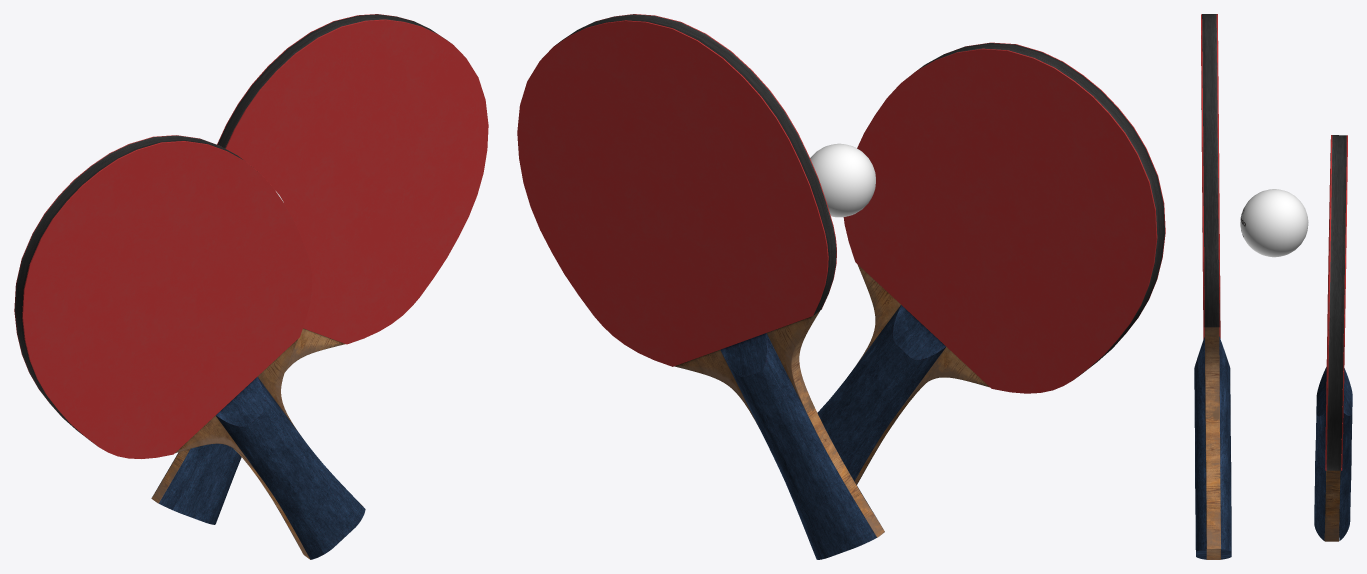
Rendered from paddle.gltf.
3 views of the same model, side by side, from view 1: azimuth 30°, elevation 25°; view 2: azimuth 150°, elevation 25°; view 3: azimuth 270°, elevation 25° (orthographic). The views are drawn at different scales.
Visible parts, largest first — view 1: raquette.001_Cover.002_0.001, raquette.001_Cover.002_0.004, raquette.001_Grip.002_0.001, raquette.001_Grip.002_0.002, raquette.001_Strap.002_0.001, raquette.001_Handle.002_0.001, raquette.001_Strap.002_0.002, raquette.001_Handle.002_0.002; view 2: raquette.001_Cover.002_0.003, raquette.001_Cover.002_0.002, raquette.001_Grip.002_0.002, raquette.001_Grip.002_0.001, raquette.001_Handle.002_0.002, raquette.001_Strap.002_0.002, raquette.001_Strap.002_0.001, ppb__0, raquette.001_Handle.002_0.001; view 3: raquette.001_Strap.002_0.002, raquette.001_Grip.002_0.001, raquette.001_Strap.002_0.001, ppb__0, raquette.001_Handle.002_0.001, raquette.001_Grip.002_0.002, raquette.001_Handle.002_0.002, raquette.001_Cover.002_0.004, raquette.001_Cover.002_0.001, raquette.001_Cover.002_0.003, raquette.001_Cover.002_0.002.
Part boxes in pixels (x1=…): raquette.001_Cover.002_0.001: x1=22, y1=141, x2=311, y2=458; raquette.001_Cover.002_0.004: x1=225, y1=19, x2=488, y2=344; raquette.001_Grip.002_0.001: x1=216, y1=377, x2=365, y2=559; raquette.001_Grip.002_0.002: x1=152, y1=443, x2=241, y2=524; raquette.001_Strap.002_0.001: x1=15, y1=135, x2=242, y2=446; raquette.001_Handle.002_0.001: x1=175, y1=339, x2=363, y2=559; raquette.001_Strap.002_0.002: x1=217, y1=14, x2=448, y2=148; raquette.001_Handle.002_0.002: x1=151, y1=328, x2=345, y2=503; raquette.001_Cover.002_0.003: x1=517, y1=20, x2=828, y2=366; raquette.001_Cover.002_0.002: x1=843, y1=48, x2=1157, y2=393; raquette.001_Grip.002_0.002: x1=720, y1=333, x2=879, y2=559; raquette.001_Grip.002_0.001: x1=817, y1=305, x2=946, y2=482; raquette.001_Handle.002_0.002: x1=674, y1=311, x2=884, y2=537; raquette.001_Strap.002_0.002: x1=555, y1=14, x2=836, y2=315; raquette.001_Strap.002_0.001: x1=918, y1=43, x2=1164, y2=379; ppb__0: x1=810, y1=143, x2=875, y2=217; raquette.001_Handle.002_0.001: x1=854, y1=264, x2=989, y2=484; raquette.001_Strap.002_0.002: x1=1326, y1=135, x2=1346, y2=470; raquette.001_Grip.002_0.001: x1=1194, y1=336, x2=1231, y2=559; raquette.001_Strap.002_0.001: x1=1202, y1=14, x2=1219, y2=328; ppb__0: x1=1240, y1=189, x2=1308, y2=257; raquette.001_Handle.002_0.001: x1=1204, y1=327, x2=1220, y2=559; raquette.001_Grip.002_0.002: x1=1314, y1=367, x2=1352, y2=540; raquette.001_Handle.002_0.002: x1=1324, y1=470, x2=1340, y2=541; raquette.001_Cover.002_0.004: x1=1325, y1=135, x2=1332, y2=470; raquette.001_Cover.002_0.001: x1=1201, y1=14, x2=1204, y2=339; raquette.001_Cover.002_0.003: x1=1341, y1=135, x2=1347, y2=470; raquette.001_Cover.002_0.002: x1=1216, y1=14, x2=1220, y2=338.
Size of the model in its own units: 0.6911 by 0.5797 by 0.1794.
Materials: 7 (6 with a texture image).
